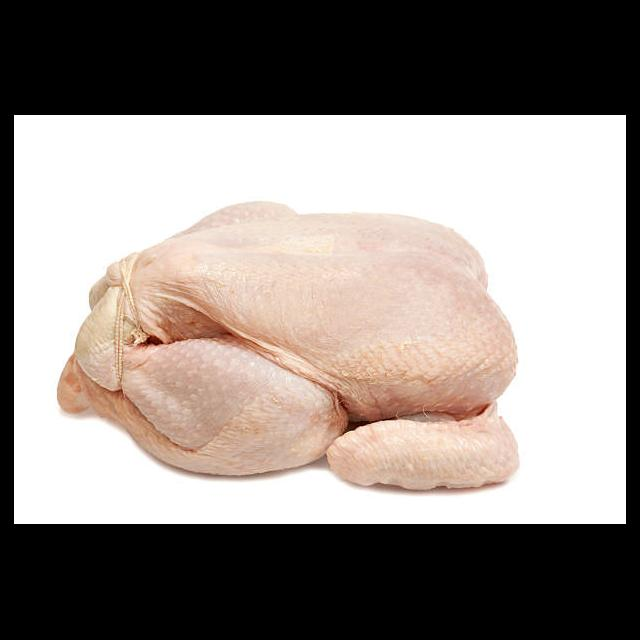chicken: (57, 200, 521, 492)
